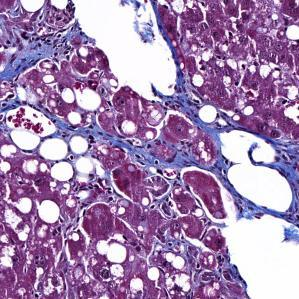fibrosis: (10, 23, 89, 73), (170, 93, 241, 143), (267, 146, 299, 227)
